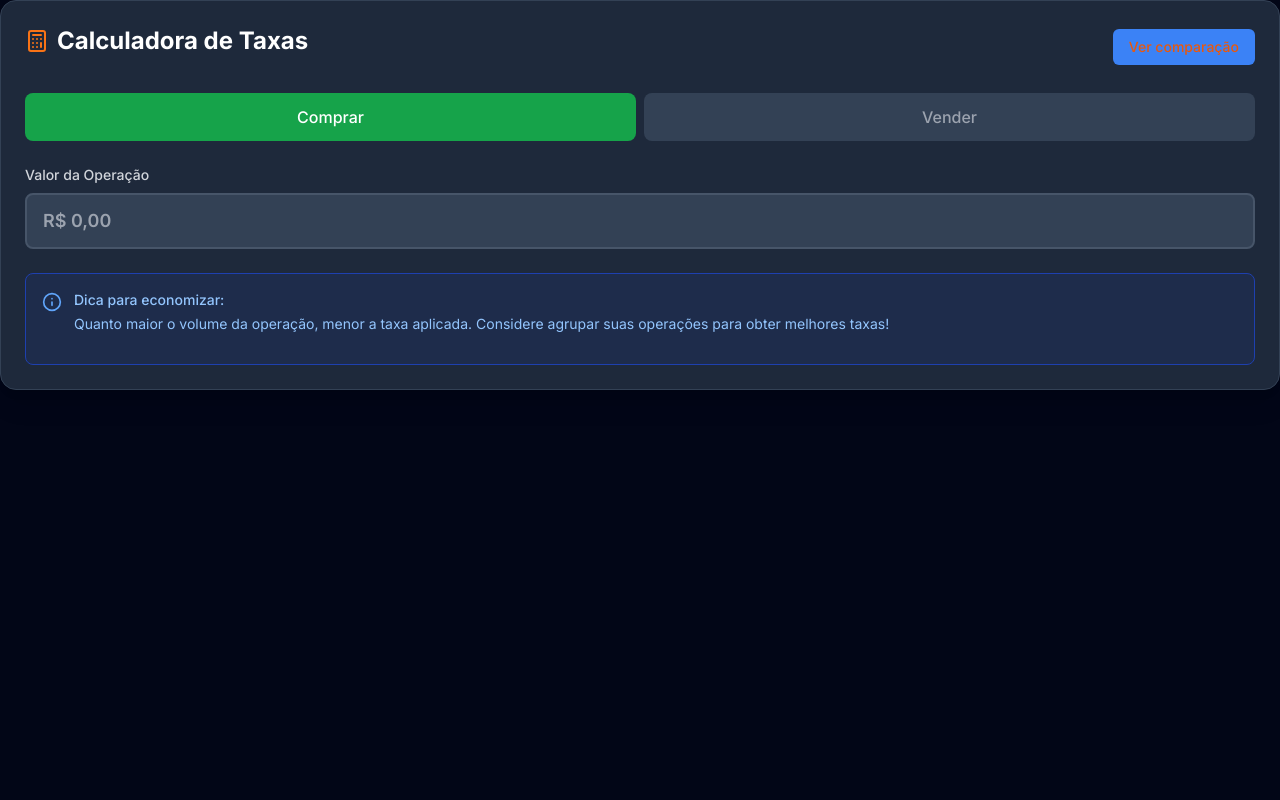
Test: FeeCalculator › calculates total correctly for sell operations
The width and height of the screenshot is (1280, 800).
// Switch to sell
Click the button "Vender": click(950, 117) [644, 93, 1255, 141]
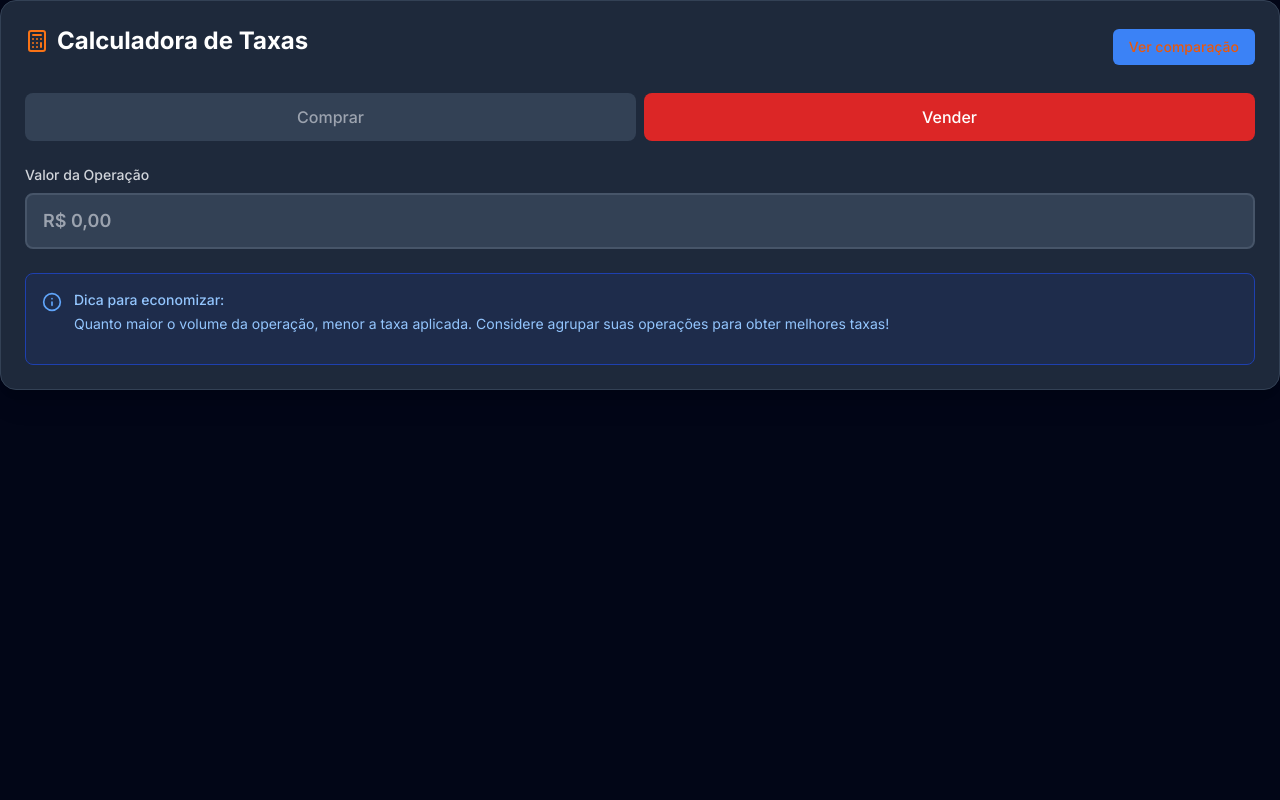
In the field with placeholder "R$ 0,00": (640, 221) [25, 193, 1255, 249], type "100000"
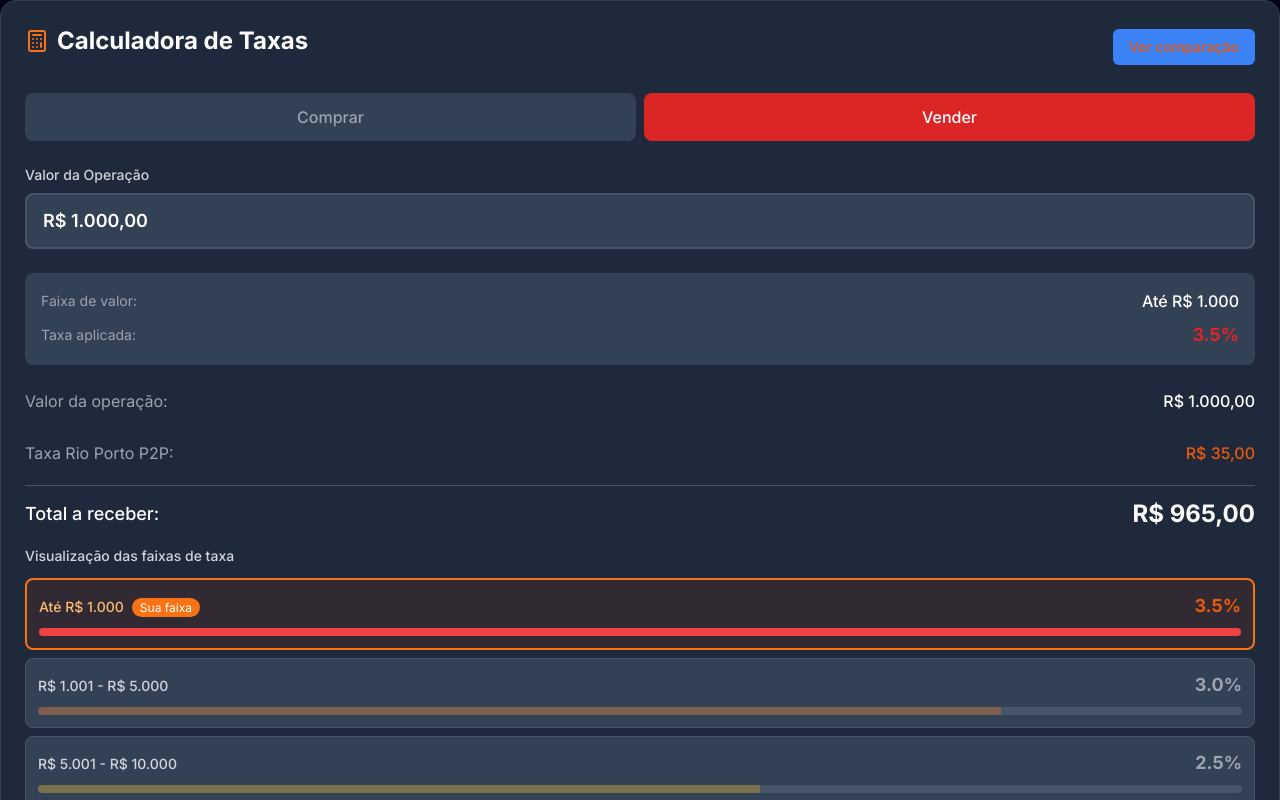
Result: the text "Total a receber:" is shown at [25, 500, 159, 528]
Result: the text "R$ 965,00" is shown at [1133, 498, 1255, 530]
